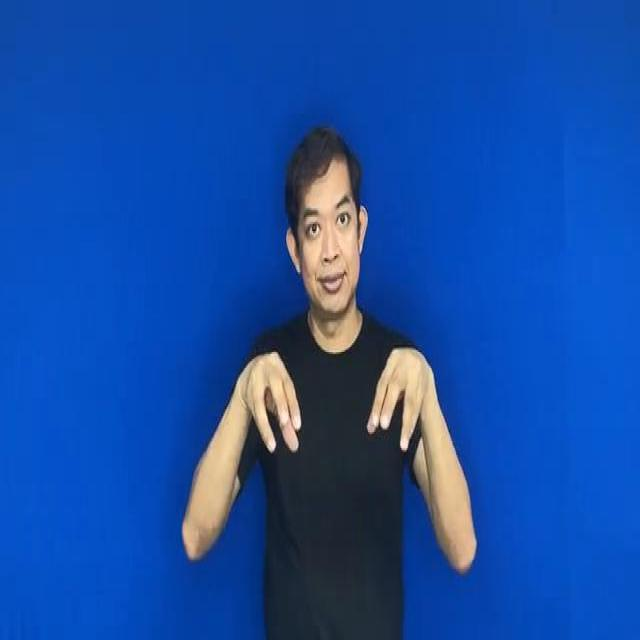egg: (228, 321, 441, 470)
